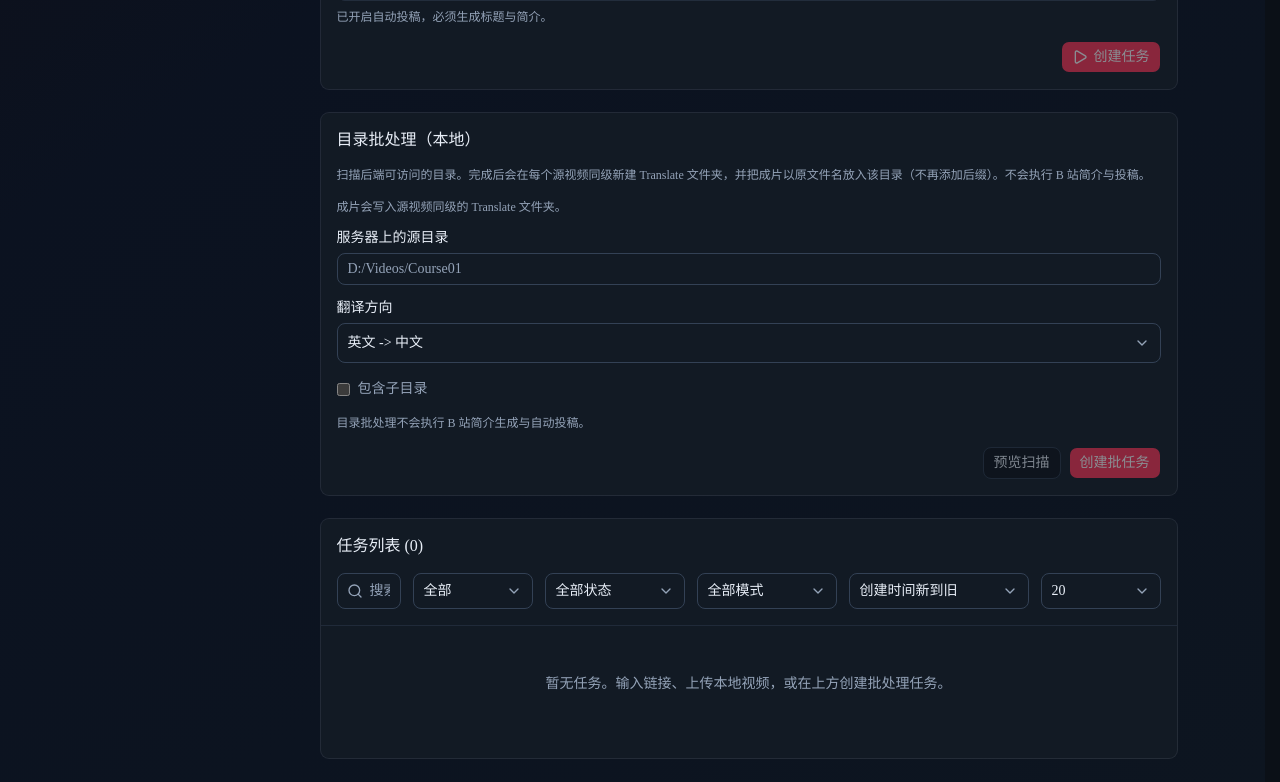
Test case: 任务搜索校验错误 › 迟到的旧成功响应不能清除新查询错误
(page scrolled)
Step 1. Type "new-query" into the field with placeholder "搜索标题、链接或任务 ID" → [368, 591], box [336, 573, 400, 609]
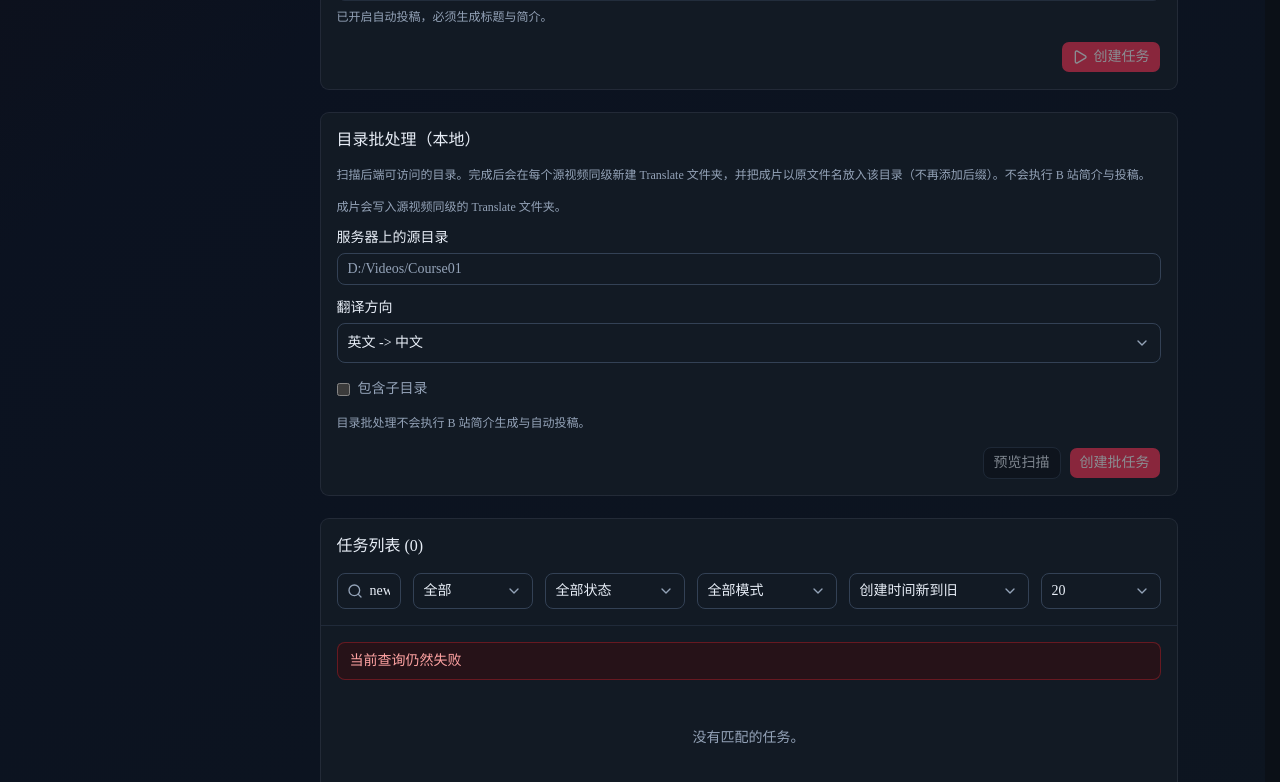
Expected: the text "当前查询仍然失败" is shown, [336, 642, 1160, 680]
